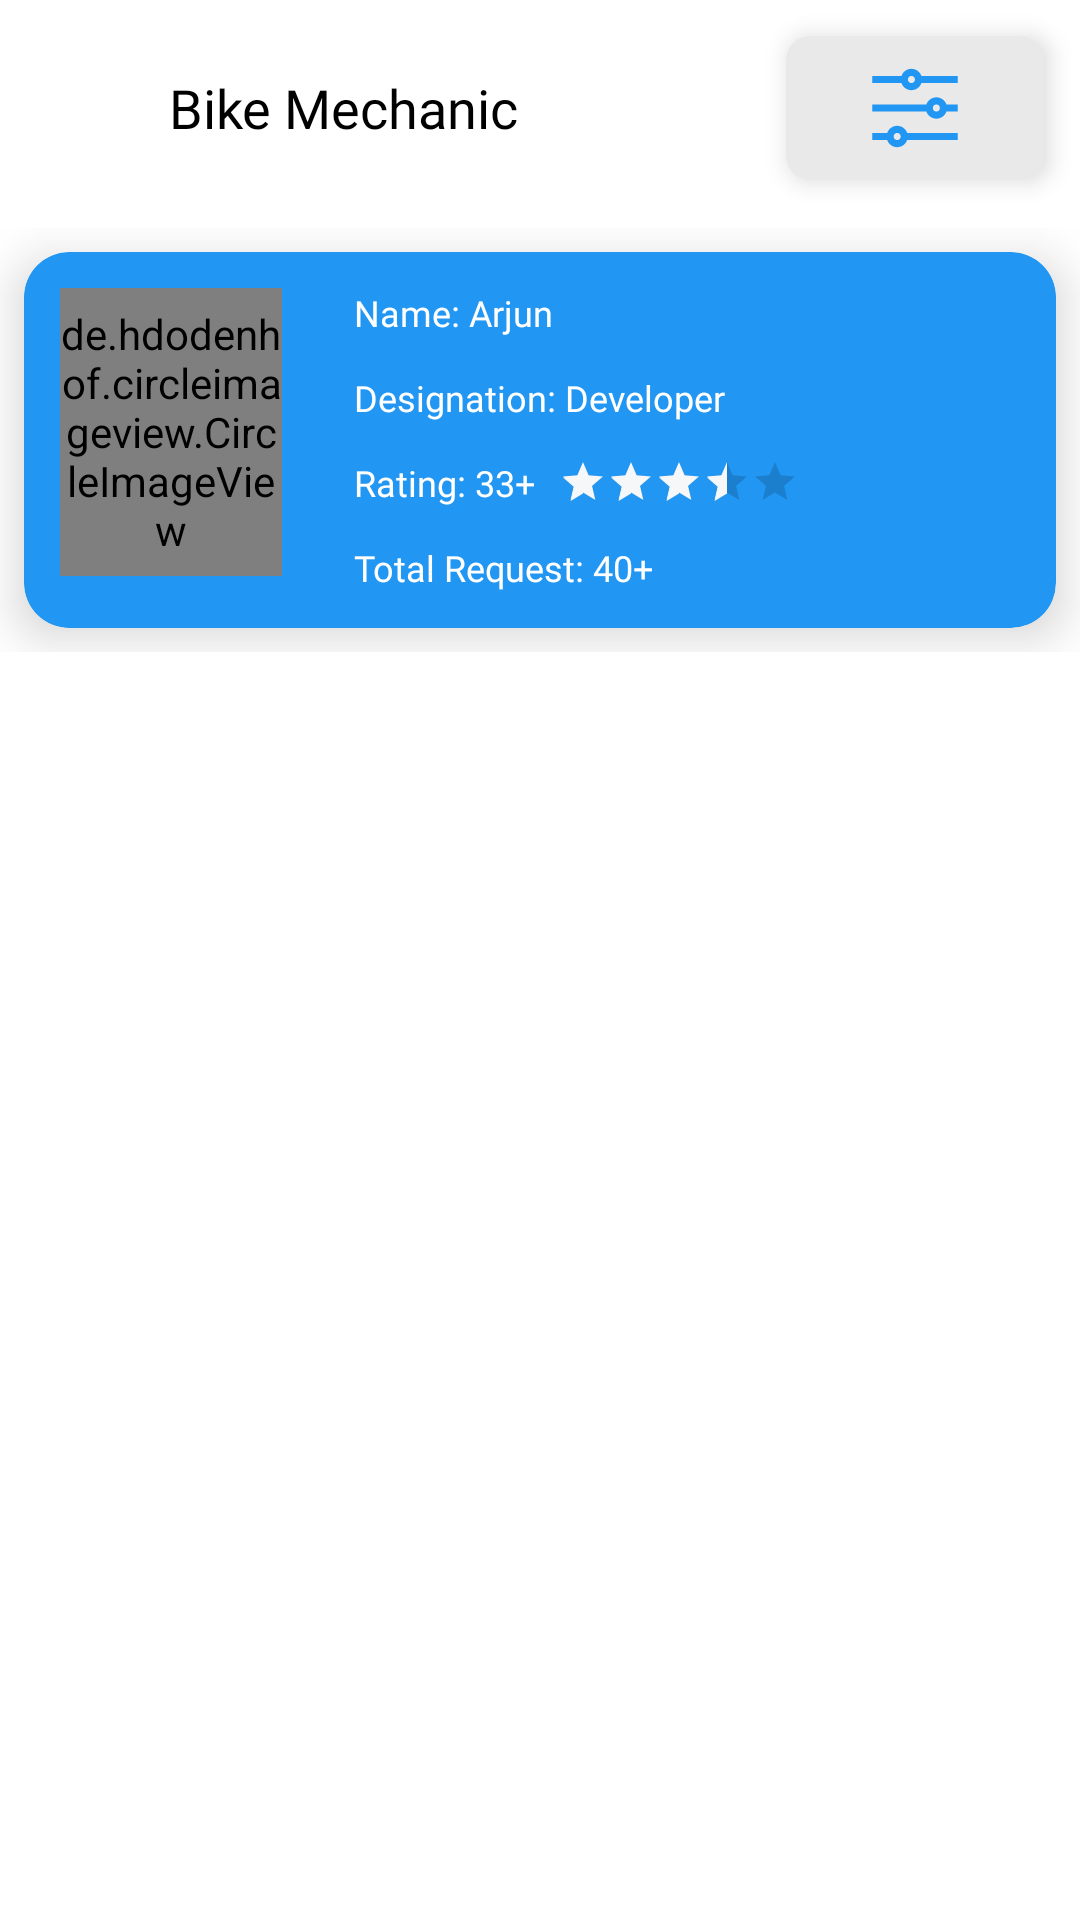

Icons on this 1080 x 1920 Android screen, each with the point to tap as (x=x, y=y):
sliders: (x=915, y=108)
